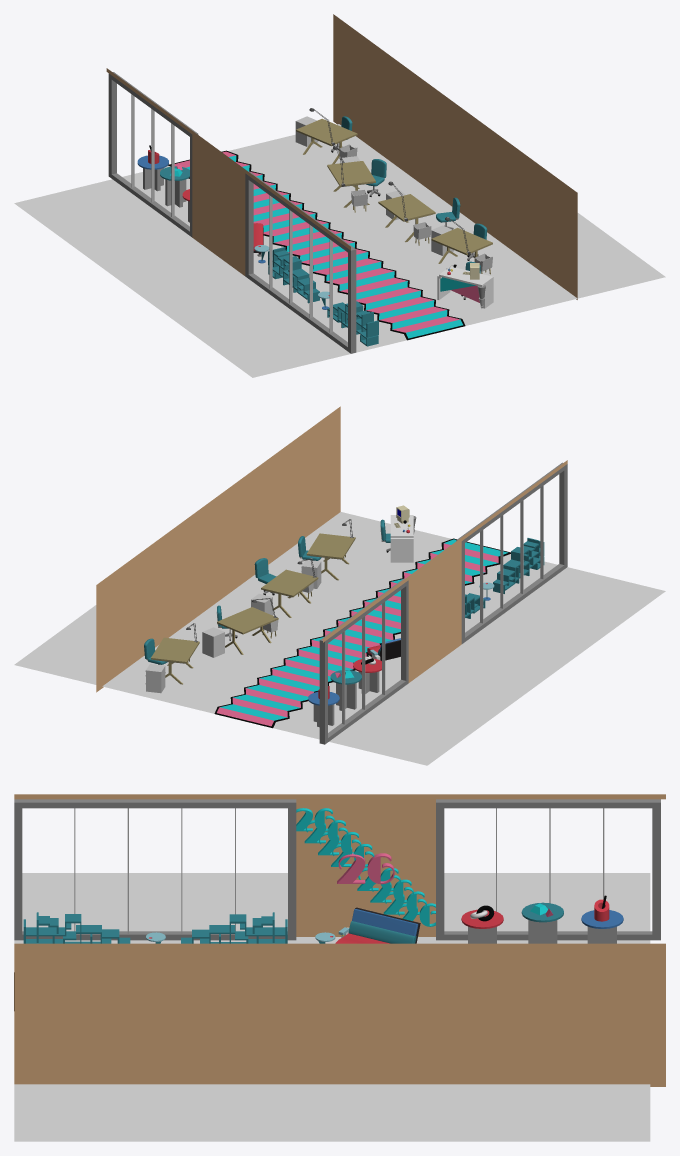
File: 80s_Office.fbx
3 views of the same model, one above another, from view 1: azimuth 30°, elevation 25°; view 2: azimuth 150°, elevation 25°; view 3: azimuth 270°, elevation 25° (orthographic). The views are drawn at different scales.
Visible parts, largest first — view 1: floor, window_wall3, rug, window_frame (×2), window_wall1, desk_surface (×4), window_supports (×2), shelving2, shelving1, window_wall2, table_main; view 2: floor, window_wall3, rug, window_frame (×2), window_wall1, desk_surface (×4), window_supports (×2), shelving1, cabinet (×2), window_wall2, table_main; view 3: window_wall3, floor, window_wall1, window_frame (×2), window_wall2, shelving1, shelving2, Floor_Text_Main, plinth_surface (×2), blue_cushion, teal_cushion, window_supports (+6 smaller).
Part boxes in pixels (x1,y1,x2,y2): floor: (14,124,665,377); window_wall3: (333,14,577,299); rug: (168,150,465,340); window_frame (×2): (108,72,356,353); window_wall1: (192,135,245,275); desk_surface (×4): (296,118,492,255); window_supports (×2): (131,94,332,332); shelving2: (268,247,319,303); shelving1: (327,301,378,346); window_wall2: (106,68,350,250); table_main: (437,266,493,308); floor: (14,512,665,765); window_wall3: (96,406,340,692); rug: (214,538,510,728); window_frame (×2): (319,462,567,744); window_wall1: (408,541,461,682); desk_surface (×4): (151,533,355,663); window_supports (×2): (342,486,543,724); shelving1: (493,538,544,593); cabinet (×2): (145,627,224,693); window_wall2: (323,460,567,642); table_main: (390,515,413,562); window_wall3: (14,943,665,1086); floor: (14,873,650,1141); window_wall1: (296,799,435,936); window_frame (×2): (14,799,660,940); window_wall2: (14,794,665,799); shelving1: (23,912,130,943); shelving2: (181,912,287,943); Floor_Text_Main: (337,853,394,884); plinth_surface (×2): (521,902,623,928); blue_cushion: (352,909,418,936); teal_cushion: (348,921,416,943); window_supports: (74,808,235,933).
Bounding box in the file's own units: 1211 × 347 × 1242.
